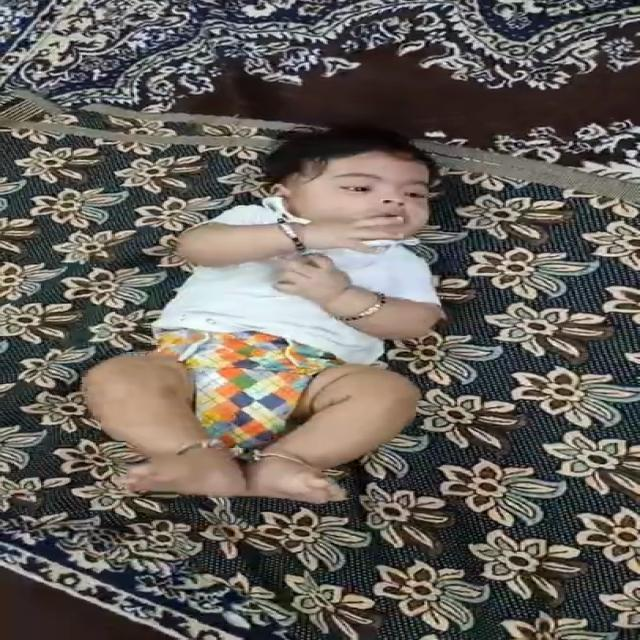baby: (80, 123, 473, 514)
